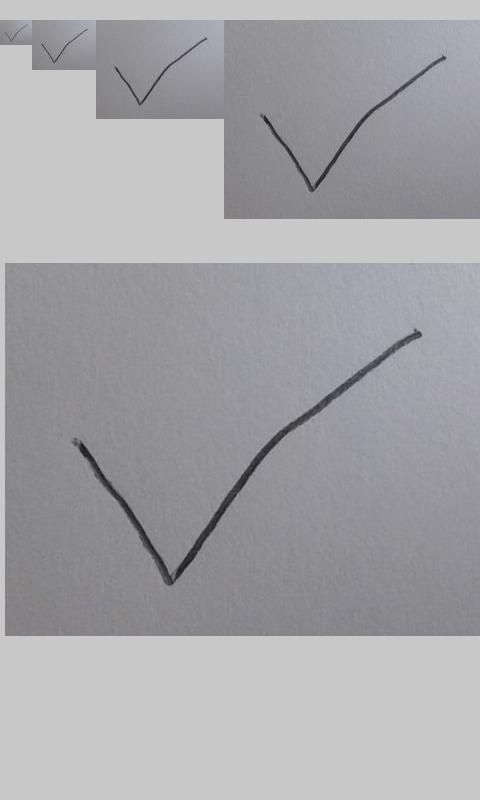check_box: (75, 329, 422, 587), (260, 55, 446, 193), (114, 37, 208, 106), (41, 29, 87, 64), (5, 24, 28, 42)
